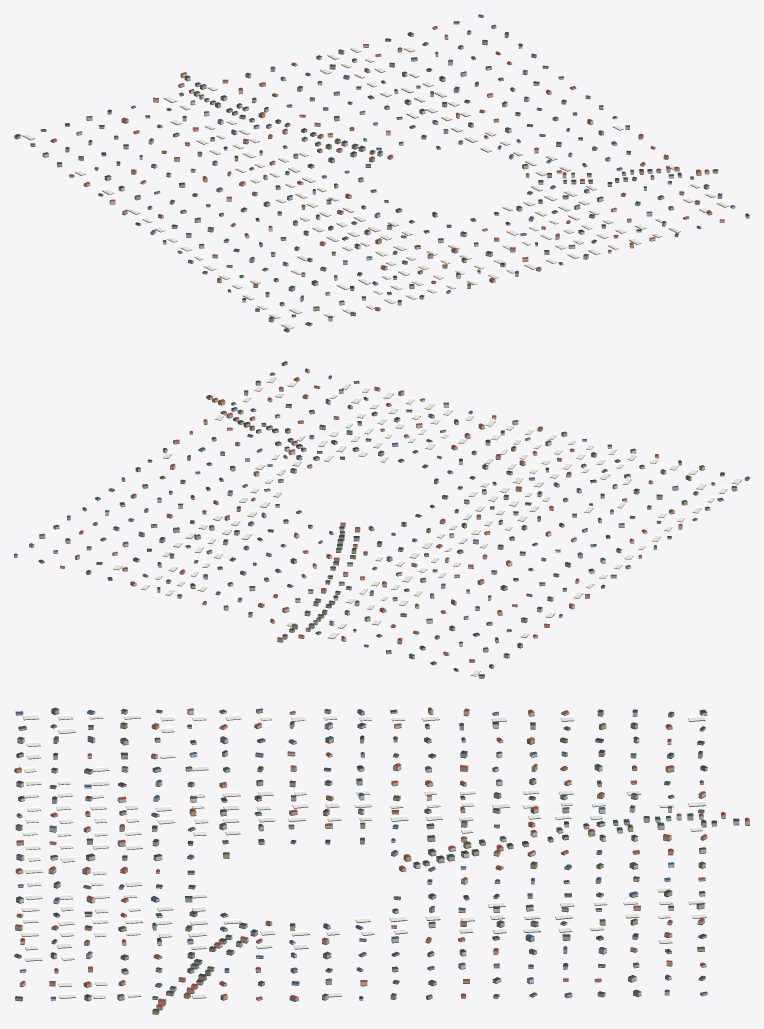
The model's file is buildings_T_E00_S07.glb.
The picture shows the model from 3 angles, top to bottom: view 1: azimuth 30°, elevation 25°; view 2: azimuth 150°, elevation 25°; view 3: azimuth 270°, elevation 25°; orthographic projection. The views are drawn at different scales.
Parts seen in each view (by area): view 1: T_E00_S07_slope_seating_foundations, T_E00_S07_roofs_agri_greenhouse_arch, T_E00_S07_walls_wall_french_ochre_villa, T_E00_S07_walls_wall_pastel_sand_gray, T_E00_S07_walls_wall_modern_warm_white, T_E00_S07_roofs_roof_slate_French_villa_hip, T_E00_S07_roofs_roof_terracotta_gable, T_E00_S07_roofs_roof_pine_green_hip, T_E00_S07_walls_wall_dalat_cream_stucco, T_E00_S07_roofs_roof_highland_blue_gable; view 2: T_E00_S07_slope_seating_foundations, T_E00_S07_roofs_agri_greenhouse_arch, T_E00_S07_walls_wall_french_ochre_villa, T_E00_S07_walls_wall_pastel_sand_gray, T_E00_S07_walls_wall_modern_warm_white, T_E00_S07_roofs_roof_slate_French_villa_hip, T_E00_S07_walls_wall_dalat_cream_stucco, T_E00_S07_roofs_roof_pine_green_hip, T_E00_S07_roofs_roof_terracotta_gable, T_E00_S07_roofs_roof_highland_blue_gable; view 3: T_E00_S07_slope_seating_foundations, T_E00_S07_roofs_agri_greenhouse_arch, T_E00_S07_walls_wall_french_ochre_villa, T_E00_S07_walls_wall_pastel_sand_gray, T_E00_S07_walls_wall_modern_warm_white, T_E00_S07_roofs_roof_slate_French_villa_hip, T_E00_S07_roofs_roof_pine_green_hip, T_E00_S07_roofs_roof_terracotta_gable, T_E00_S07_walls_wall_dalat_cream_stucco, T_E00_S07_roofs_roof_highland_blue_gable.
Part boxes in pixels (box(x1,y1,x2,y2)): T_E00_S07_slope_seating_foundations: box(14, 16, 749, 332); T_E00_S07_roofs_agri_greenhouse_arch: box(22, 46, 729, 328); T_E00_S07_walls_wall_french_ochre_villa: box(30, 23, 749, 331); T_E00_S07_walls_wall_pastel_sand_gray: box(50, 33, 722, 321); T_E00_S07_walls_wall_modern_warm_white: box(41, 15, 735, 325); T_E00_S07_roofs_roof_slate_French_villa_hip: box(14, 38, 749, 313); T_E00_S07_roofs_roof_terracotta_gable: box(51, 26, 724, 308); T_E00_S07_roofs_roof_pine_green_hip: box(30, 21, 718, 324); T_E00_S07_walls_wall_dalat_cream_stucco: box(14, 25, 709, 320); T_E00_S07_roofs_roof_highland_blue_gable: box(98, 14, 734, 330); T_E00_S07_slope_seating_foundations: box(14, 364, 749, 678); T_E00_S07_roofs_agri_greenhouse_arch: box(113, 375, 742, 675); T_E00_S07_walls_wall_french_ochre_villa: box(38, 362, 749, 668); T_E00_S07_walls_wall_pastel_sand_gray: box(39, 382, 737, 662); T_E00_S07_walls_wall_modern_warm_white: box(14, 369, 724, 671); T_E00_S07_roofs_roof_slate_French_villa_hip: box(53, 361, 710, 676); T_E00_S07_walls_wall_dalat_cream_stucco: box(29, 377, 704, 678); T_E00_S07_roofs_roof_pine_green_hip: box(39, 380, 736, 666); T_E00_S07_roofs_roof_terracotta_gable: box(60, 368, 682, 661); T_E00_S07_roofs_roof_highland_blue_gable: box(14, 372, 749, 646); T_E00_S07_slope_seating_foundations: box(14, 712, 749, 1014); T_E00_S07_roofs_agri_greenhouse_arch: box(21, 713, 706, 998); T_E00_S07_walls_wall_french_ochre_villa: box(14, 709, 707, 1014); T_E00_S07_walls_wall_pastel_sand_gray: box(14, 709, 707, 1001); T_E00_S07_walls_wall_modern_warm_white: box(16, 709, 707, 1000); T_E00_S07_roofs_roof_slate_French_villa_hip: box(15, 708, 739, 998); T_E00_S07_roofs_roof_pine_green_hip: box(14, 707, 706, 1011); T_E00_S07_roofs_roof_terracotta_gable: box(14, 707, 749, 1007); T_E00_S07_walls_wall_dalat_cream_stucco: box(15, 710, 749, 1009); T_E00_S07_roofs_roof_highland_blue_gable: box(15, 708, 707, 998).
Bounding box in the file's own units: 1829 × 39.45 × 1856.
